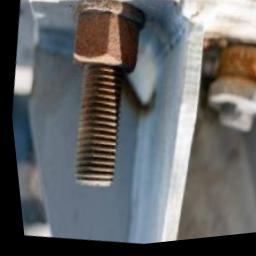Corroded-Nut-and-Bolt: (70, 0, 145, 189)
